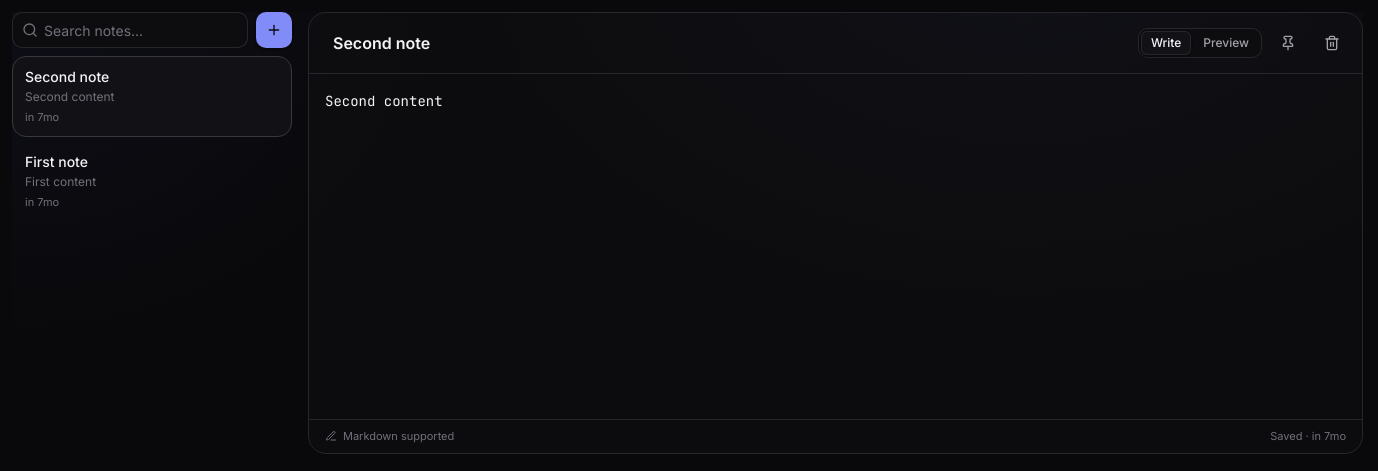
NotesView autosave › flushes pending changes when switching notes
The width and height of the screenshot is (1378, 471).
Replace the text in the text box with placeholder "Start writing in Markdown…" with "Flush on switch": coordinates (836, 247) [325,90,1346,403]
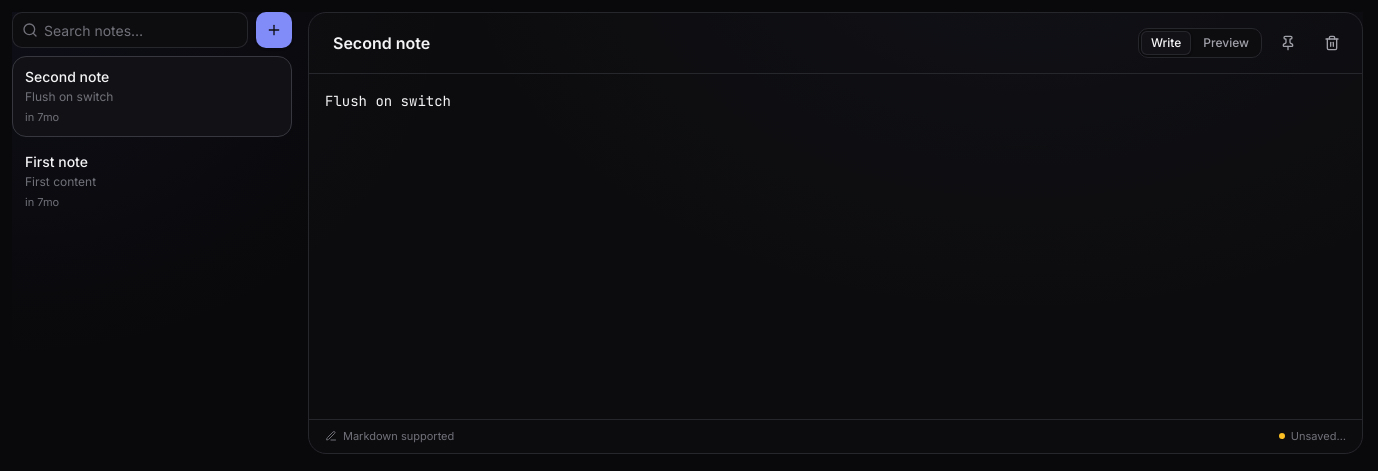
Click the button "First note First content in 7mo": coordinates (56, 161) [12,140,292,221]
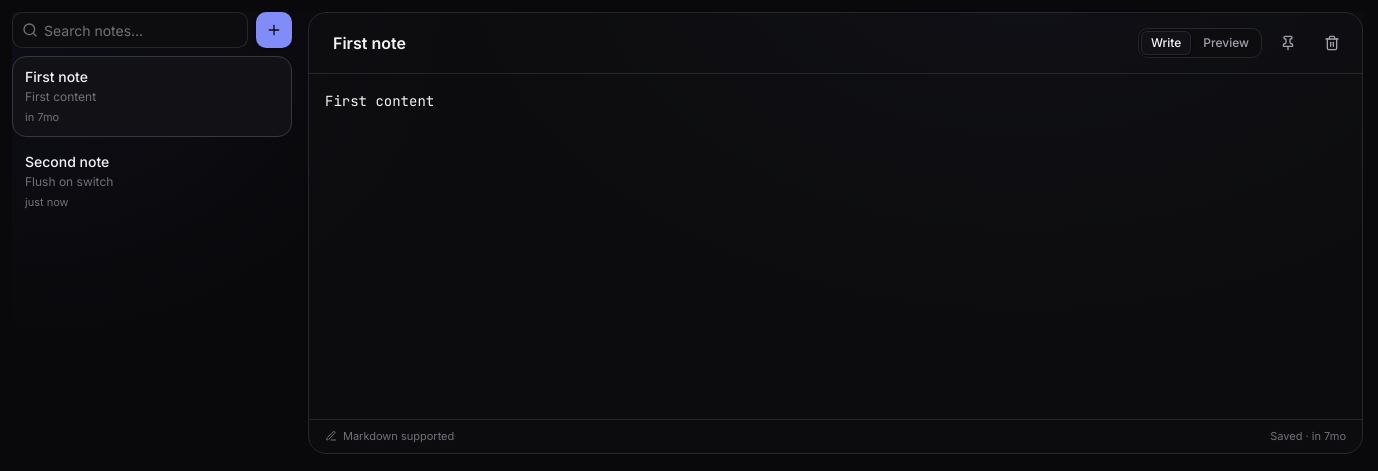
Expected: the text "Flush on switch" is shown, [25,174,113,188]
Expected: the text box with placeholder "Start writing in Markdown…" holds "First content", [325,90,1346,403]
